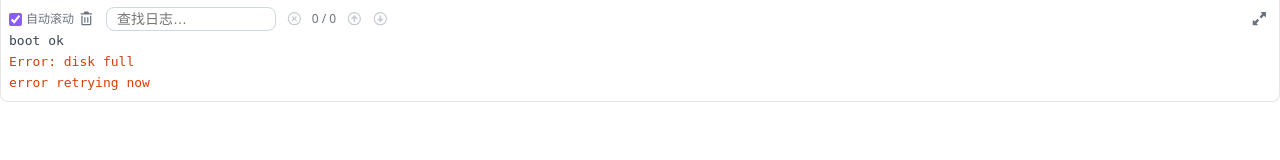
Test: LogTabView 日志查找（规格 2026-09-05-log-search-design） › typing_query_highlights_all_matches_and_shows_count
This screenshot has width=1280, height=160.
Type "error" into the field with class "log-search-input" at (191, 19), box [106,7,276,31]
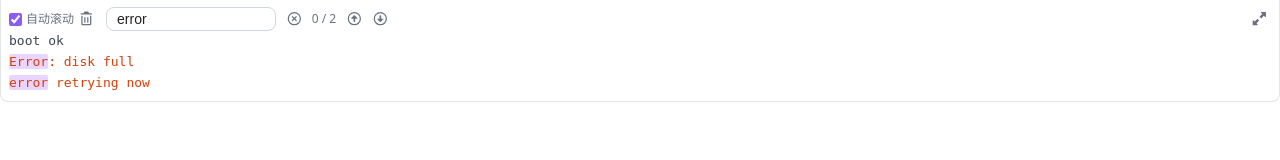
Expected: the element with class "log-view" shows "Error: disk full", [9,33,150,90]
Expected: the number of elements with class "ln-mark" is 2, [9,54,48,69]; [9,75,48,90]
Expected: the text with class "log-search-count" reads "0 / 2", [312,10,336,27]
